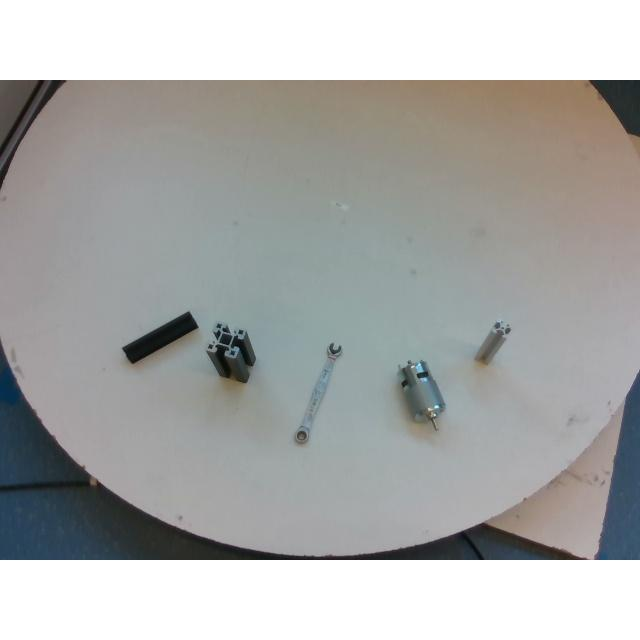F20_20_B: (123, 312, 197, 362)
F20_20_G: (474, 320, 510, 364)
Motor2: (398, 359, 446, 428)
S40_40_B: (206, 322, 254, 382)
Wrench: (294, 344, 342, 444)
